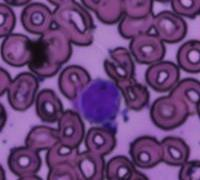L: (74, 77, 122, 124)
